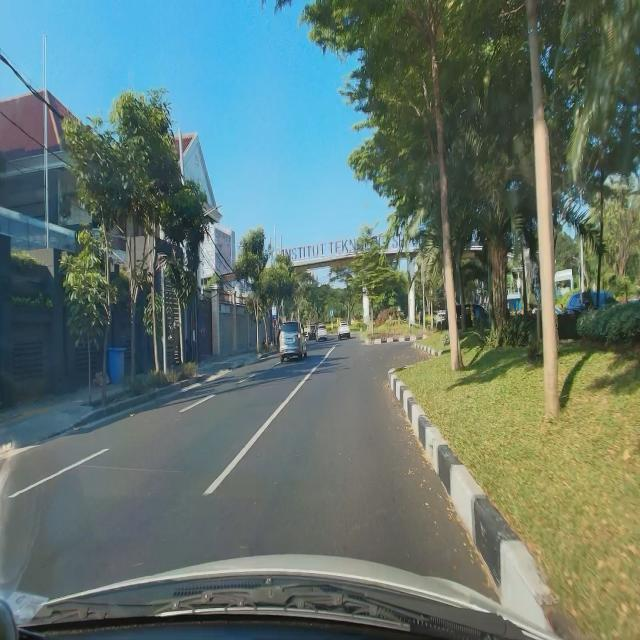car: (278, 320, 308, 363)
